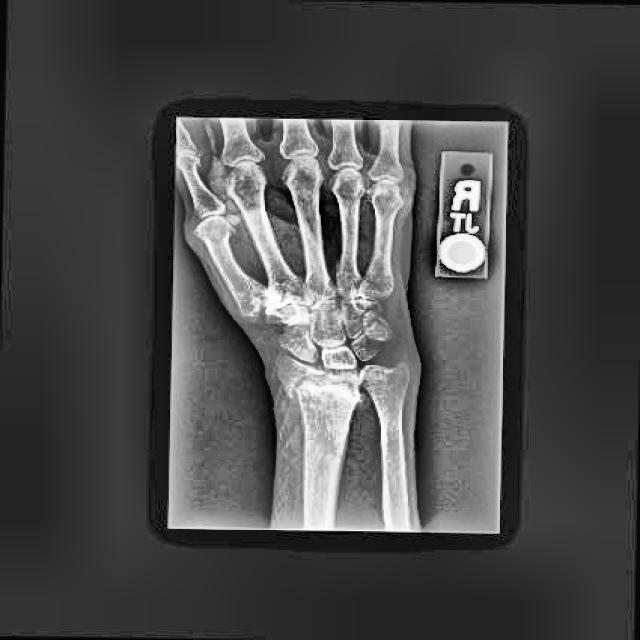wrist positive: (263, 353, 412, 425)
